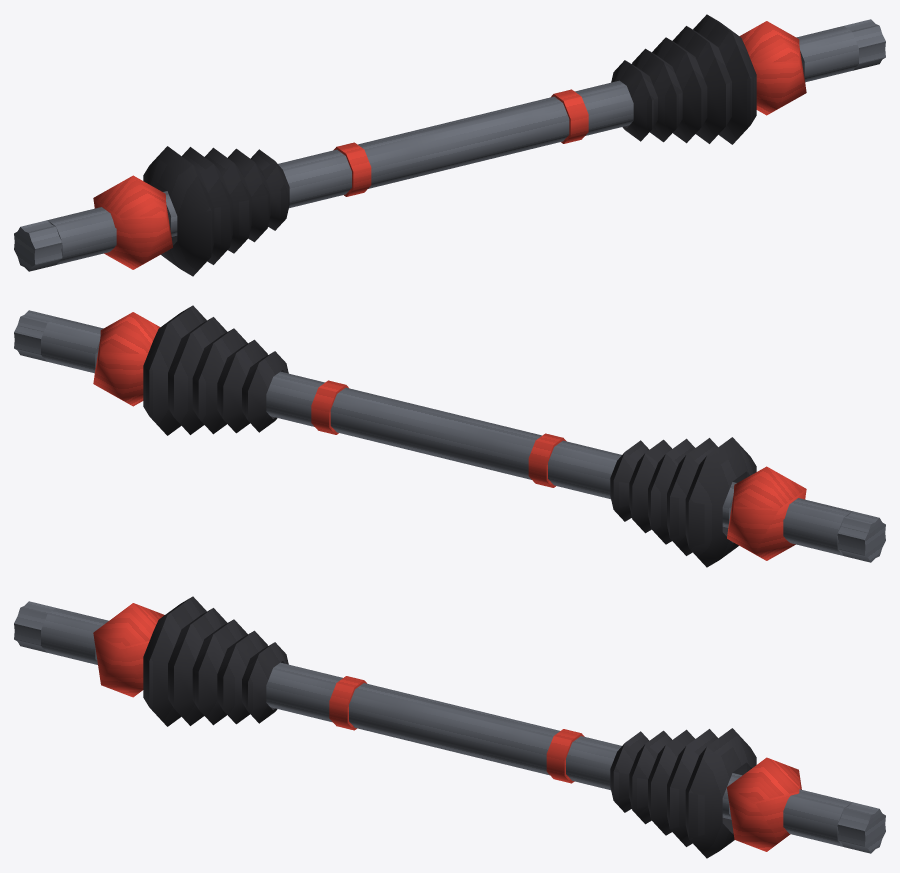
The model's file is semieixos_n4.glb.
3 renders of one model, top to bottom at view 1: azimuth 30°, elevation 25°; view 2: azimuth 150°, elevation 25°; view 3: azimuth 330°, elevation 25°, orthographic.
Parts seen in each view (by area): view 1: semieixos_n4; view 2: semieixos_n4; view 3: semieixos_n4.
Part boxes in pixels (left/top/right/bottom): semieixos_n4: left=14, top=14, right=885, bottom=276; semieixos_n4: left=14, top=305, right=885, bottom=567; semieixos_n4: left=14, top=596, right=885, bottom=858.
Bounding box in the file's own units: 0.94 × 0.1183 × 0.1183.
Materials: 3 (3 with a texture image).
